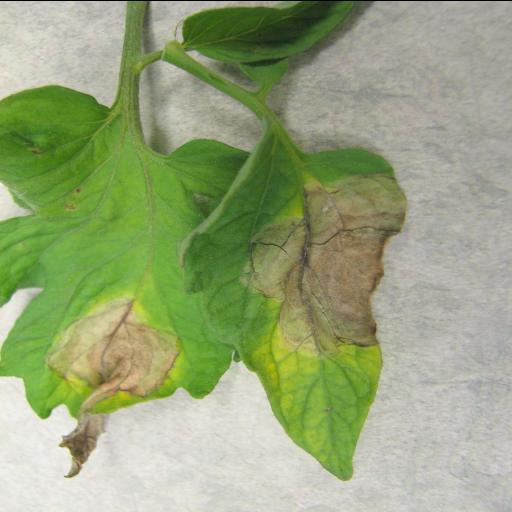Late Blight: (2, 73, 217, 481), (183, 124, 412, 484)
